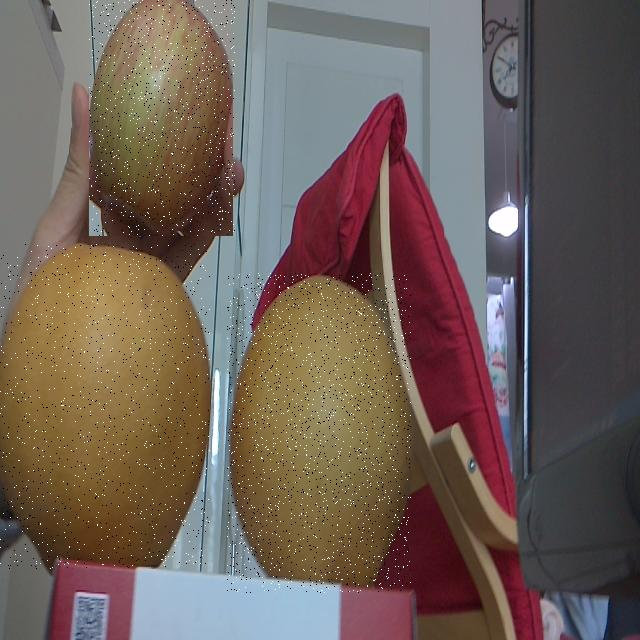apple: (90, 0, 236, 236)
pear: (0, 244, 210, 569), (227, 273, 411, 593)
